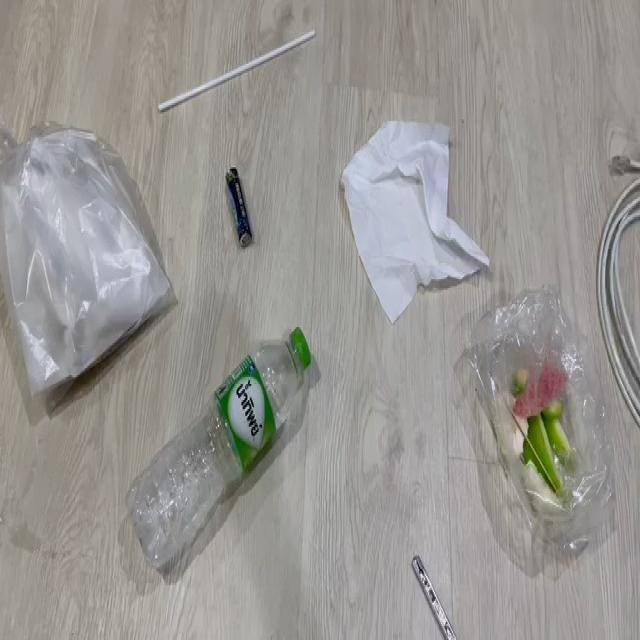Anorganik: (1, 123, 171, 380), (135, 342, 333, 542), (334, 96, 472, 320), (157, 38, 318, 104), (399, 546, 461, 640)
B3: (461, 308, 606, 548), (594, 152, 640, 436), (224, 152, 258, 256)
